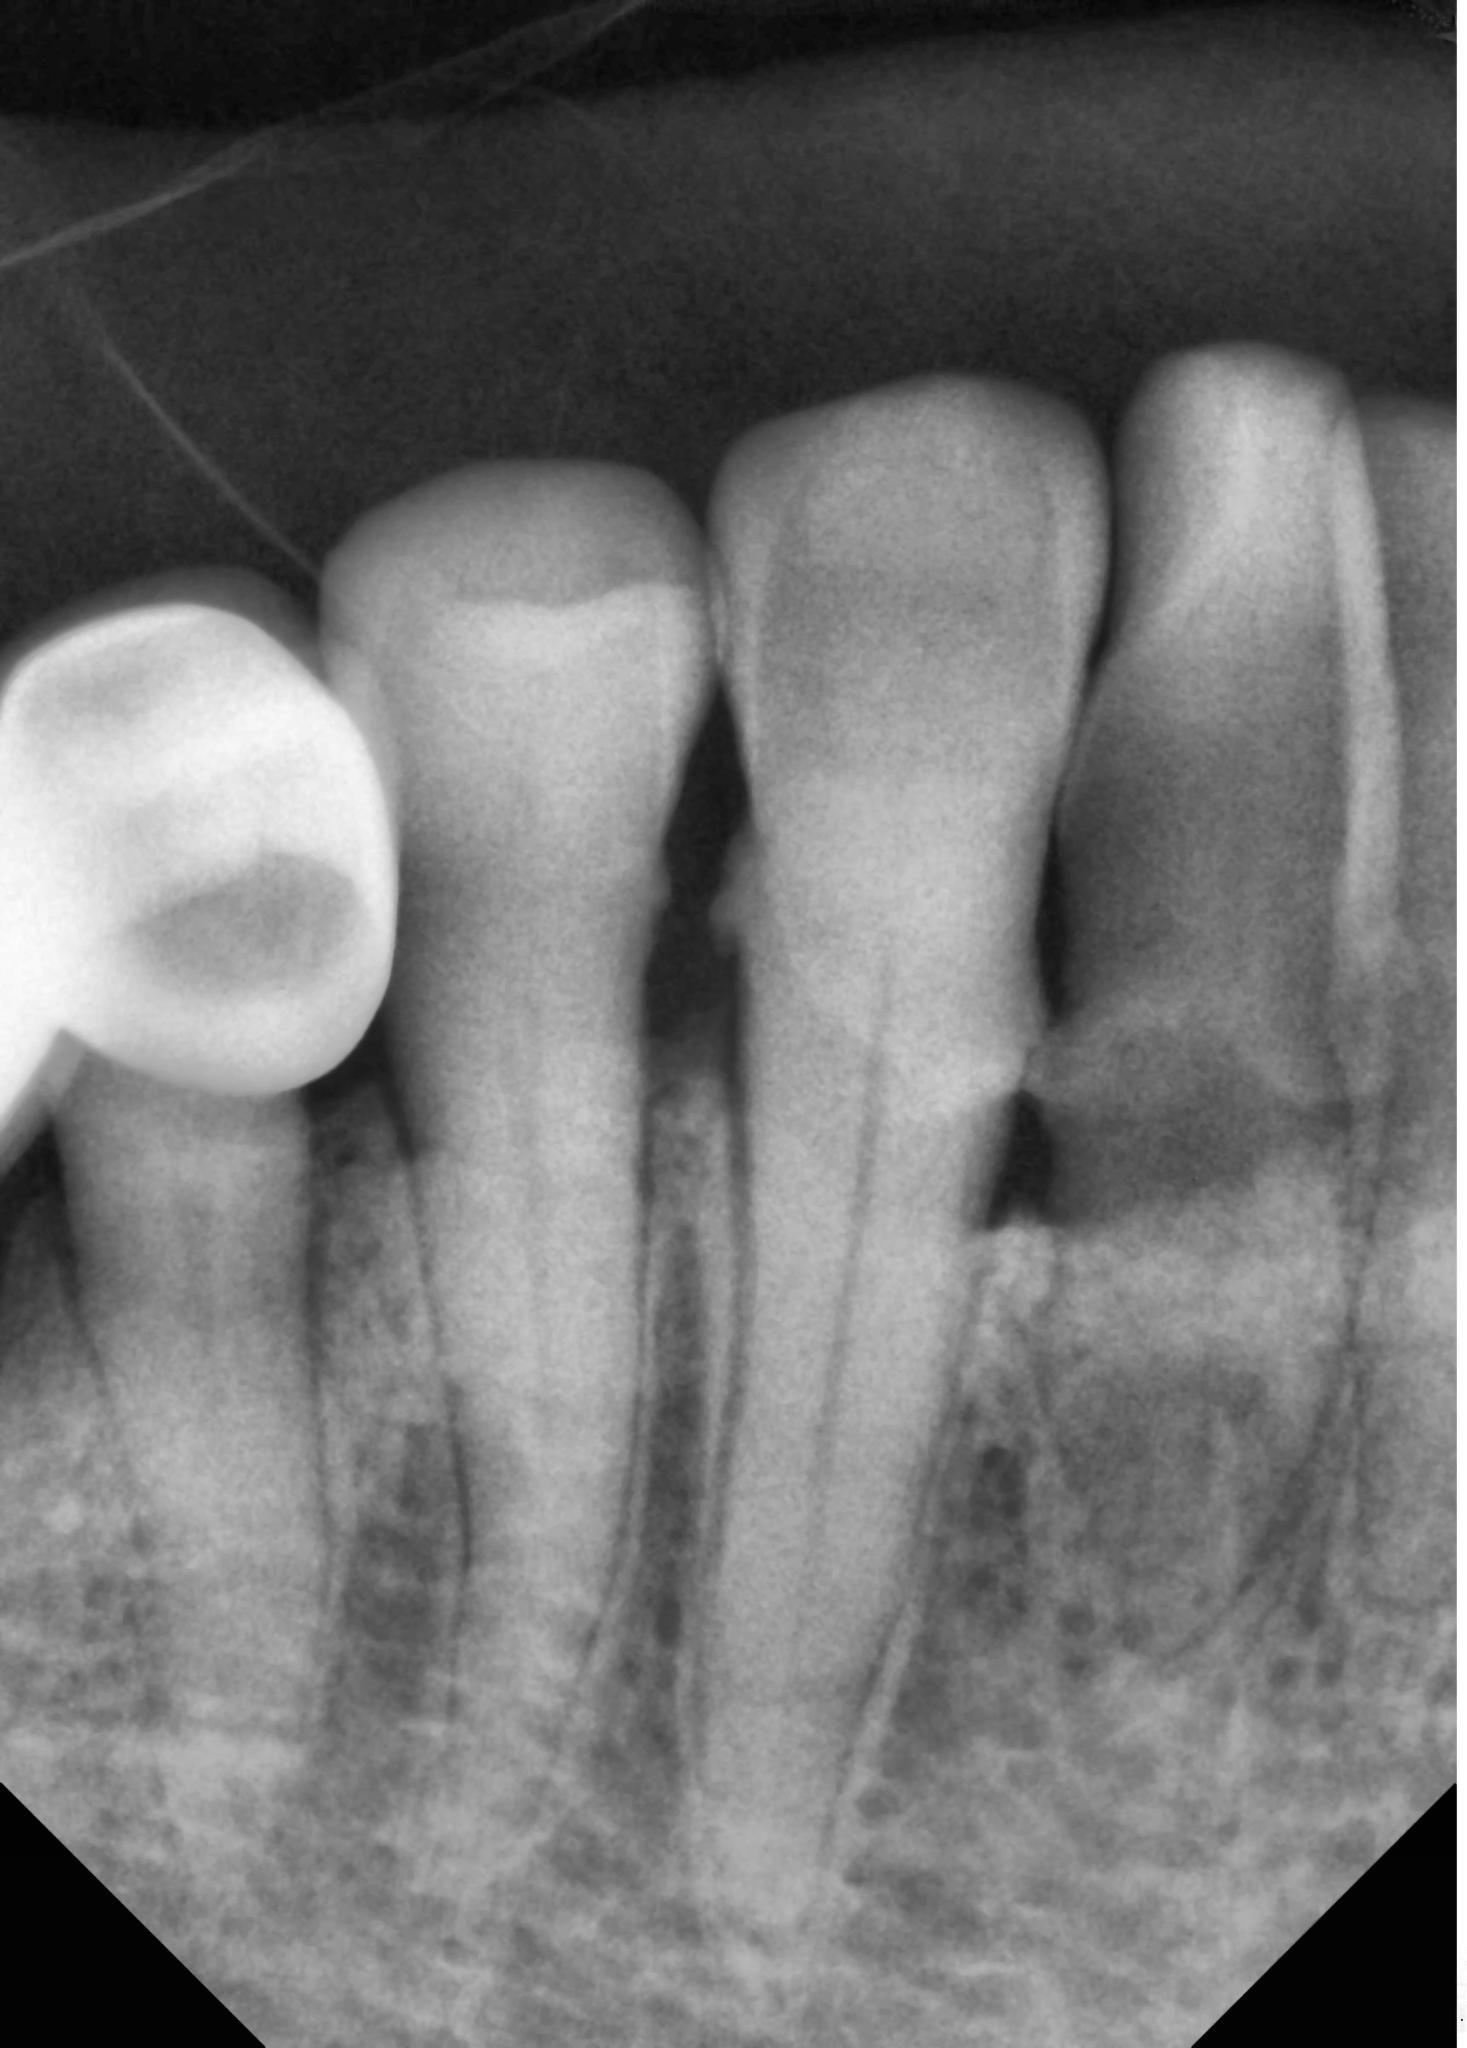Individual Tooth: (324, 460, 711, 1808), (1032, 319, 1416, 1670), (0, 568, 399, 1851), (1326, 406, 1448, 1656)
